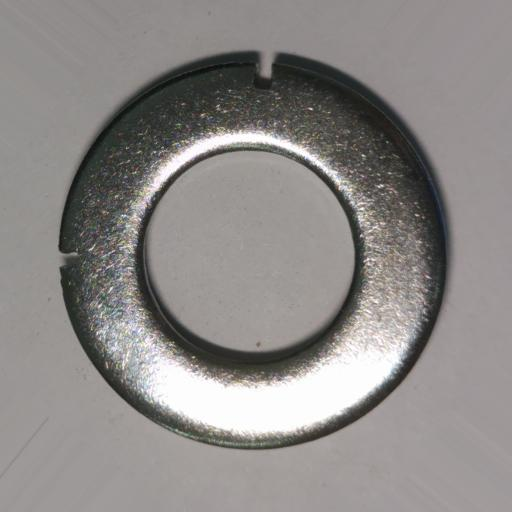burr: (251, 61, 276, 89), (57, 247, 82, 272)
